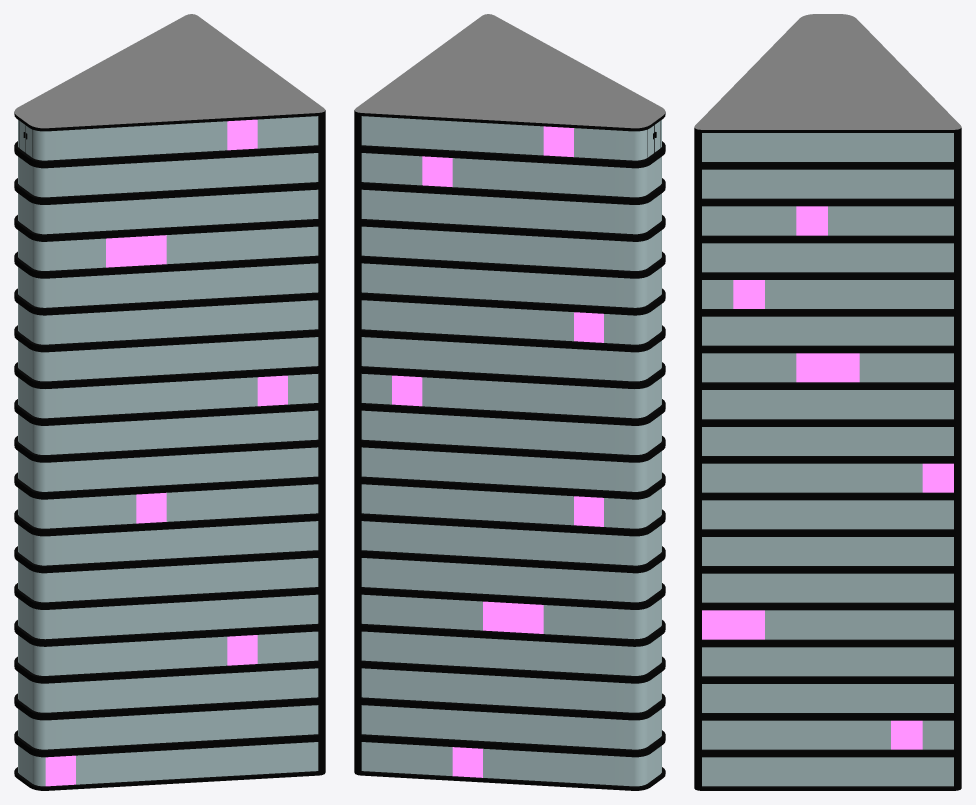
Rendered from building7.fbx.
3 views of the same model, side by side, from view 1: azimuth 30°, elevation 25°; view 2: azimuth 150°, elevation 25°; view 3: azimuth 270°, elevation 25° (orthographic).
Visible parts, largest first — view 1: Cube.037; view 2: Cube.037; view 3: Cube.037.
Part boxes in pixels (x1,y1,x2,y2): Cube.037: [14, 14, 325, 790]; Cube.037: [354, 14, 665, 790]; Cube.037: [694, 14, 961, 790].
Bounding box in the file's own units: 4 × 10.64 × 3.9.
